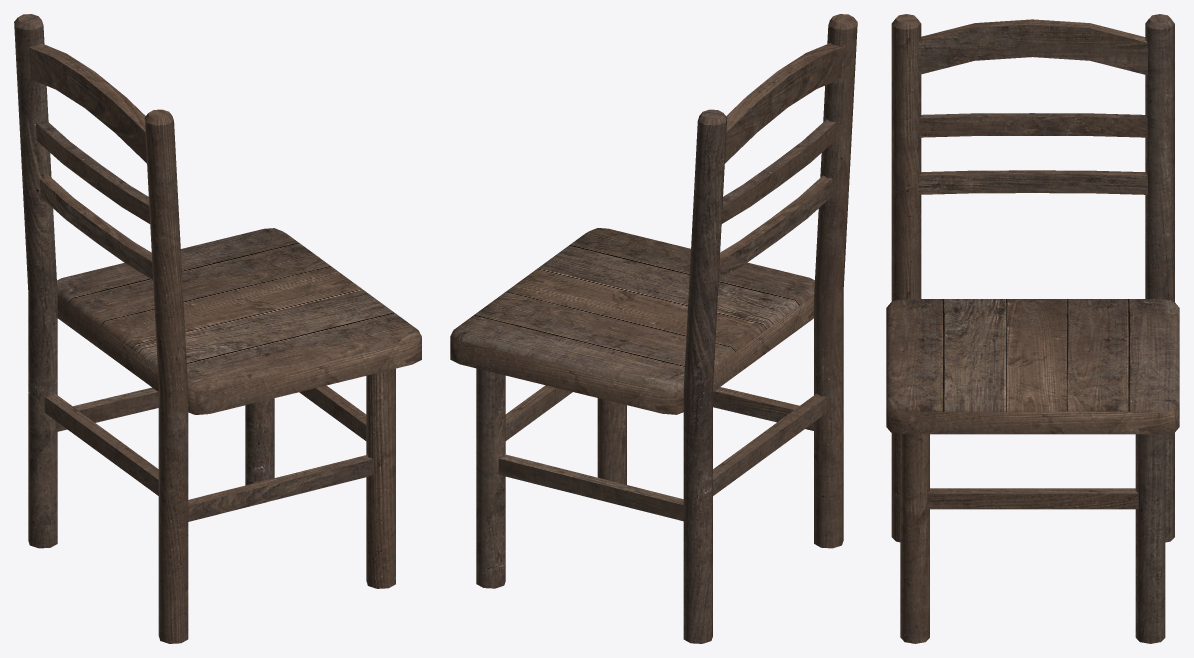
File: mw_chair_01.FBX
3 renders of one model, left to right at view 1: azimuth 30°, elevation 25°; view 2: azimuth 150°, elevation 25°; view 3: azimuth 270°, elevation 25°, orthographic. The views are drawn at different scales.
Parts seen in each view (by area): view 1: mw_chair_01; view 2: mw_chair_01; view 3: mw_chair_01.
Boxes of the visible parts, <box> form: mw_chair_01: <box>14,14,421,643</box>; mw_chair_01: <box>450,14,857,643</box>; mw_chair_01: <box>886,14,1179,643</box>.
Bounding box in the file's own units: 71 × 132 × 68.39.
